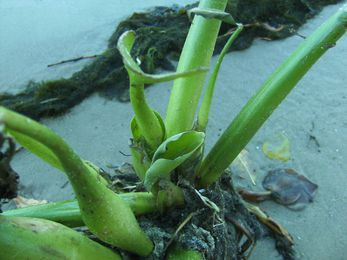water_hyacinth: (1, 1, 346, 260)
